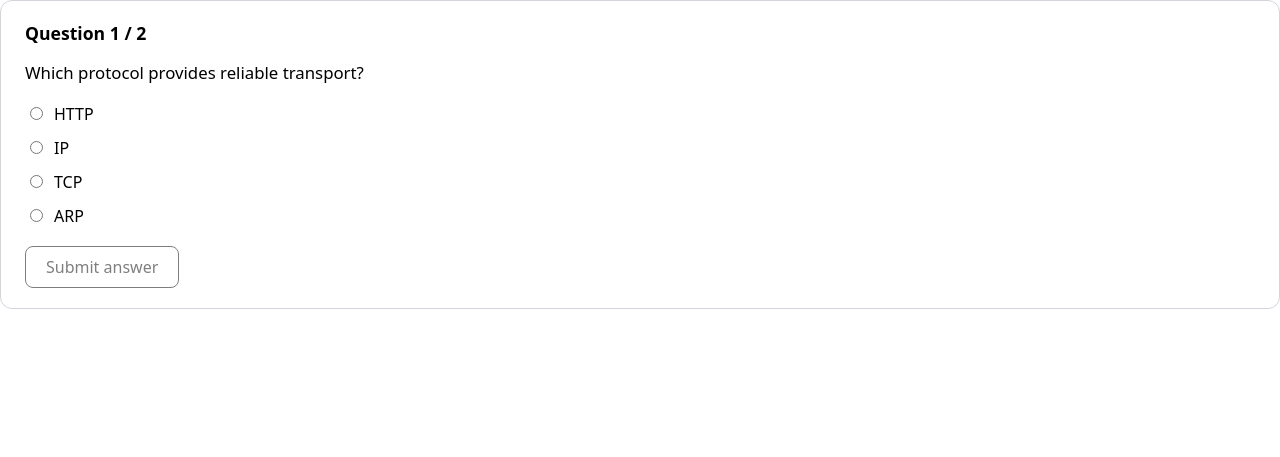
it: Quiz › names the correct option when the answer is wrong
The width and height of the screenshot is (1280, 457).
Click the radio button labelled "HTTP". click: [36, 114]
box: [30, 107, 43, 120]
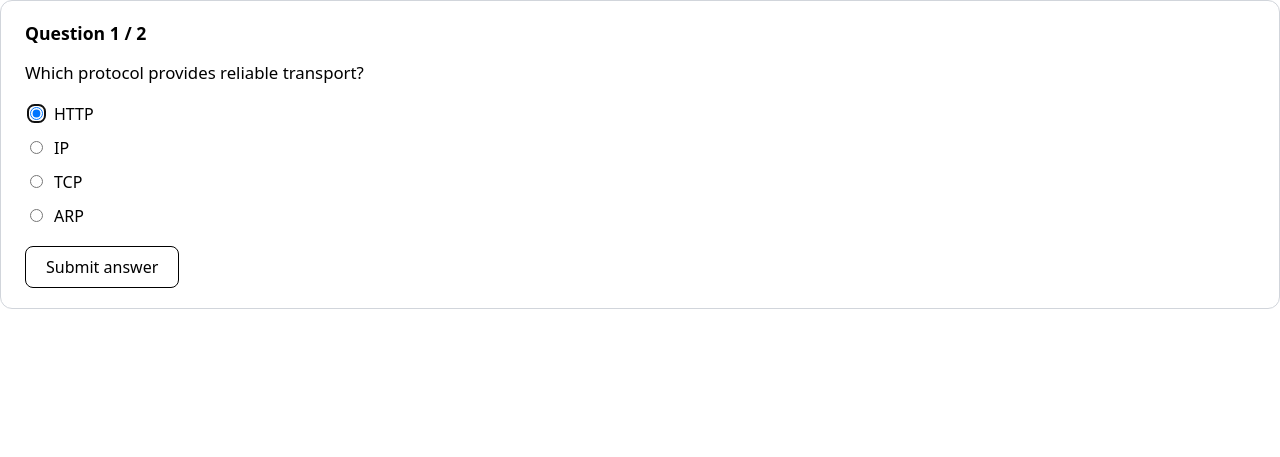
Click the button "Submit answer". click: [102, 267]
box: [25, 246, 179, 288]
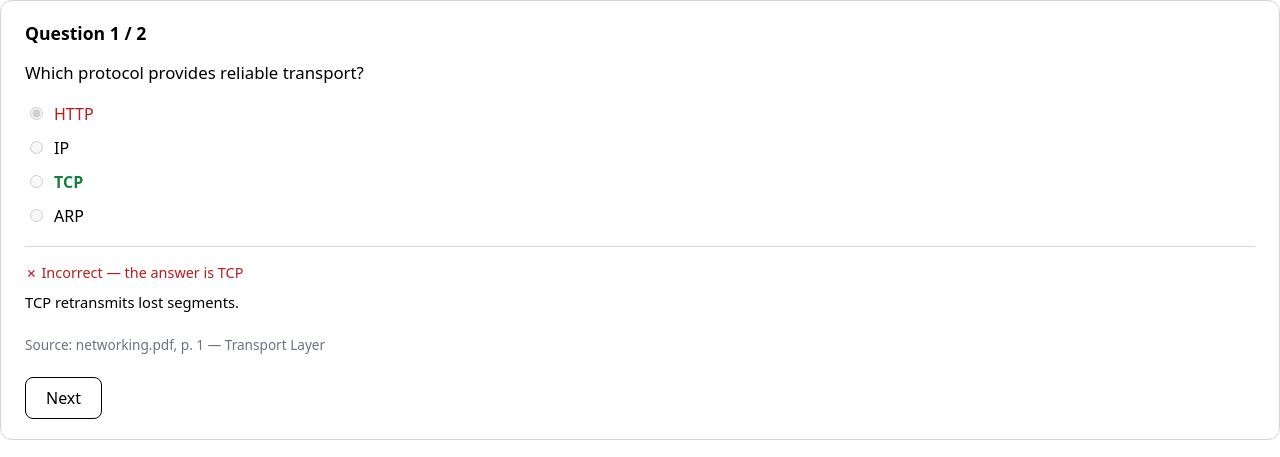
Result: the text "✗ Incorrect — the answer is TCP" is shown at [25, 263, 243, 282]
